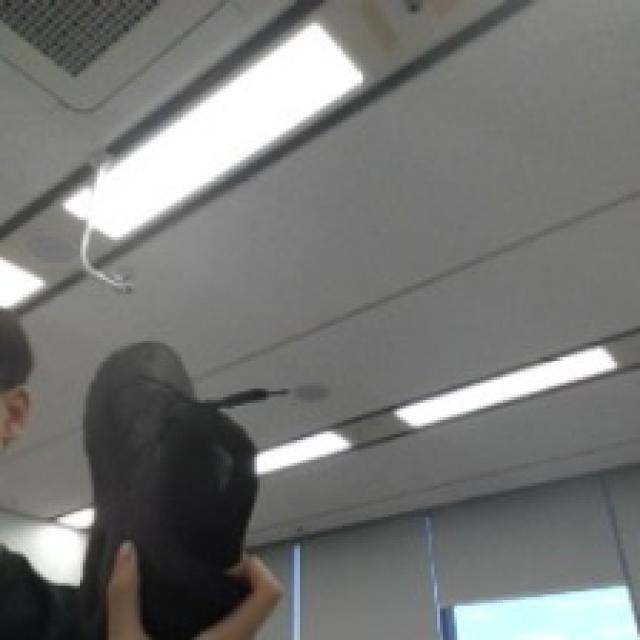shoe: (82, 336, 264, 640)
